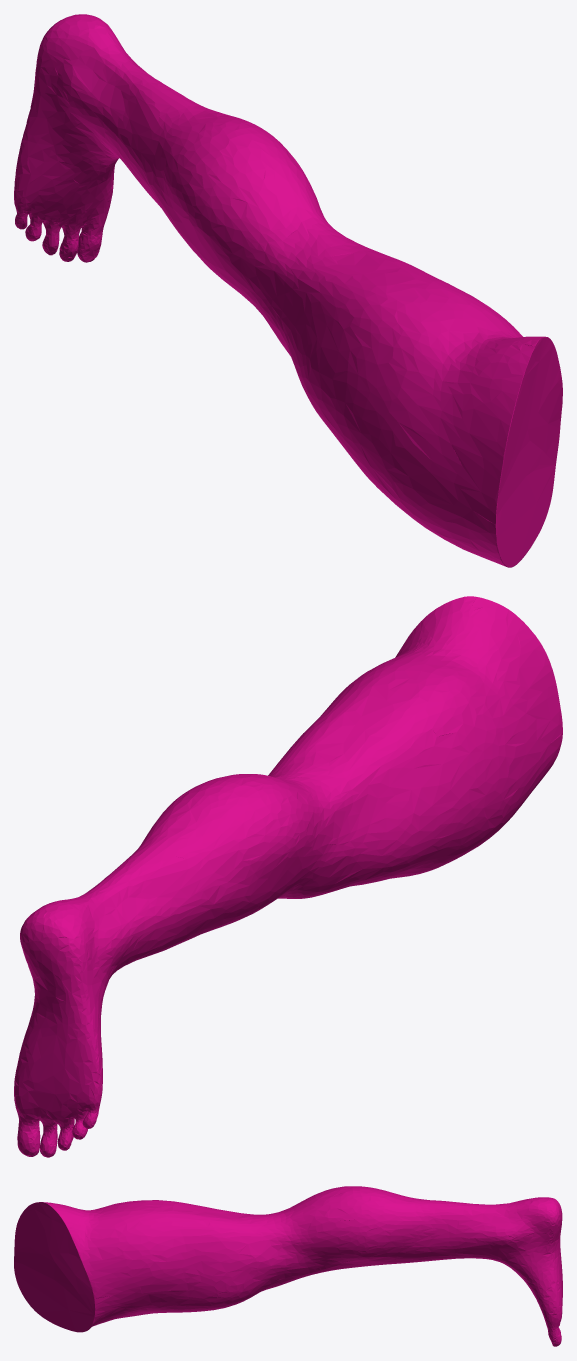
The model's file is leg1.obj.
3 renders of one model, top to bottom at view 1: azimuth 30°, elevation 25°; view 2: azimuth 150°, elevation 25°; view 3: azimuth 270°, elevation 25°, orthographic. The views are drawn at different scales.
Visible parts, largest first — view 1: obj_0; view 2: obj_0; view 3: obj_0.
Boxes of the visible parts, box(x1,y1,x2,y2) form: obj_0: box(14, 14, 562, 567); obj_0: box(14, 596, 562, 1157); obj_0: box(14, 1186, 562, 1346).
Bounding box in the file's own units: 13.33 × 20.77 × 69.27.
